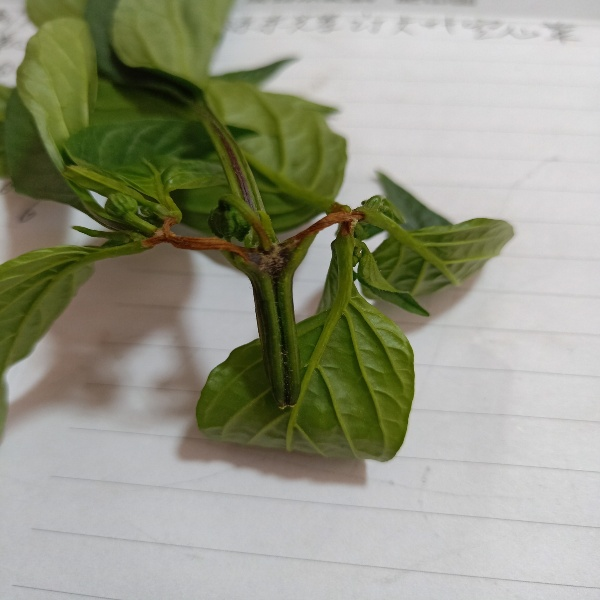blight: (145, 201, 360, 275), (245, 273, 305, 407), (207, 117, 260, 210)
